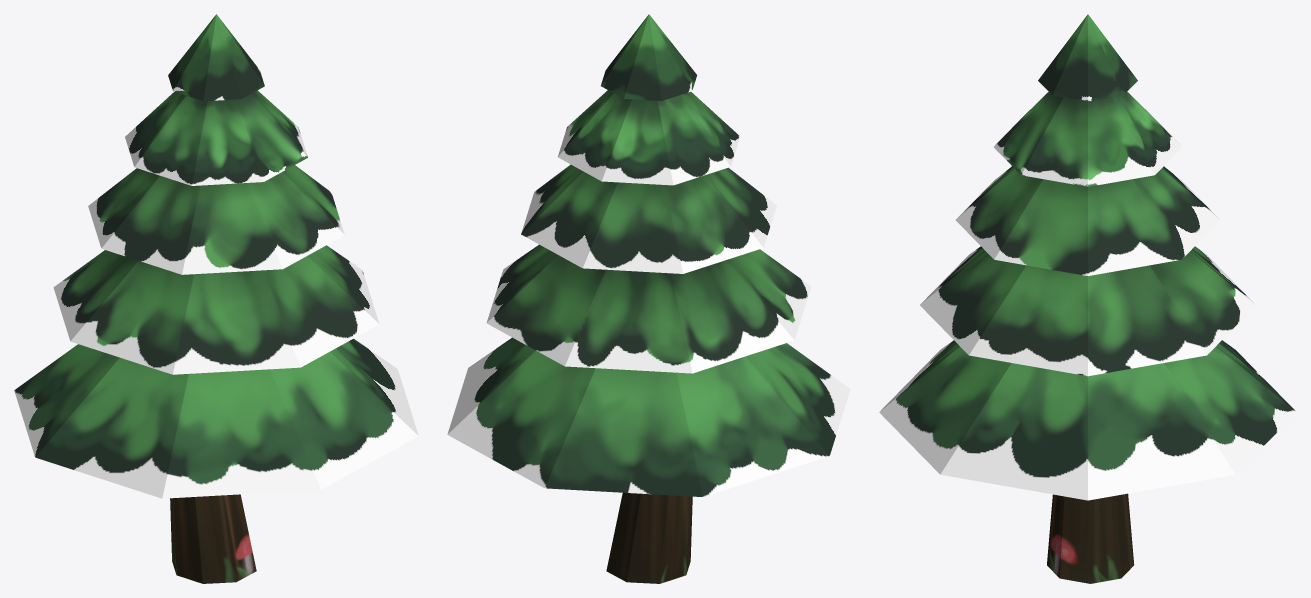
The model's file is arvere.fbx.
3 renders of one model, left to right at view 1: azimuth 30°, elevation 25°; view 2: azimuth 150°, elevation 25°; view 3: azimuth 270°, elevation 25°, orthographic.
Visible parts, largest first — view 1: pinheiro; view 2: pinheiro; view 3: pinheiro.
Boxes of the visible parts, left/top/right/bottom form: pinheiro: left=14, top=14, right=418, bottom=583; pinheiro: left=447, top=14, right=850, bottom=583; pinheiro: left=879, top=14, right=1296, bottom=583.
Size of the model in its own units: 1365 by 1989 by 1365.
